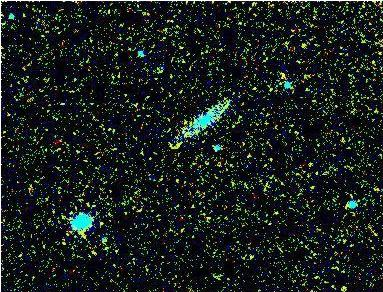star: (159, 130, 189, 160)
